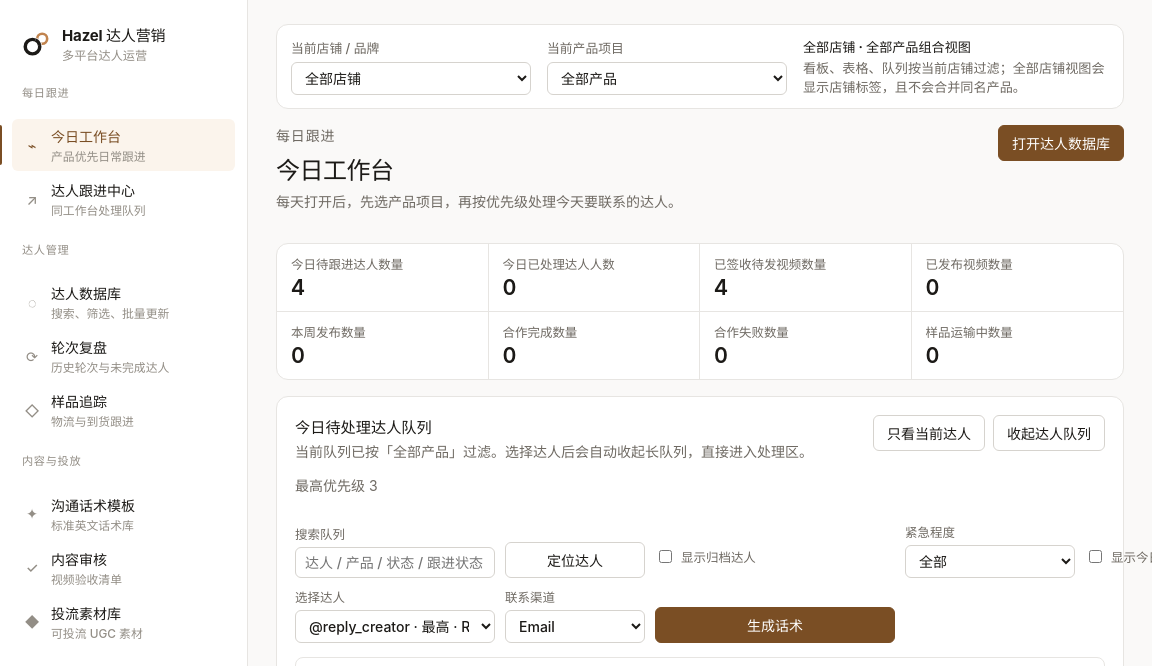
Test case: operations workbench navigation and dashboard › shows and filters Highest work with approved reasons, actions, and ordering
Click the button "↗ 达人跟进中心 同工作台处理队列". click: (124, 199)
box: left=12, top=173, right=235, bottom=225
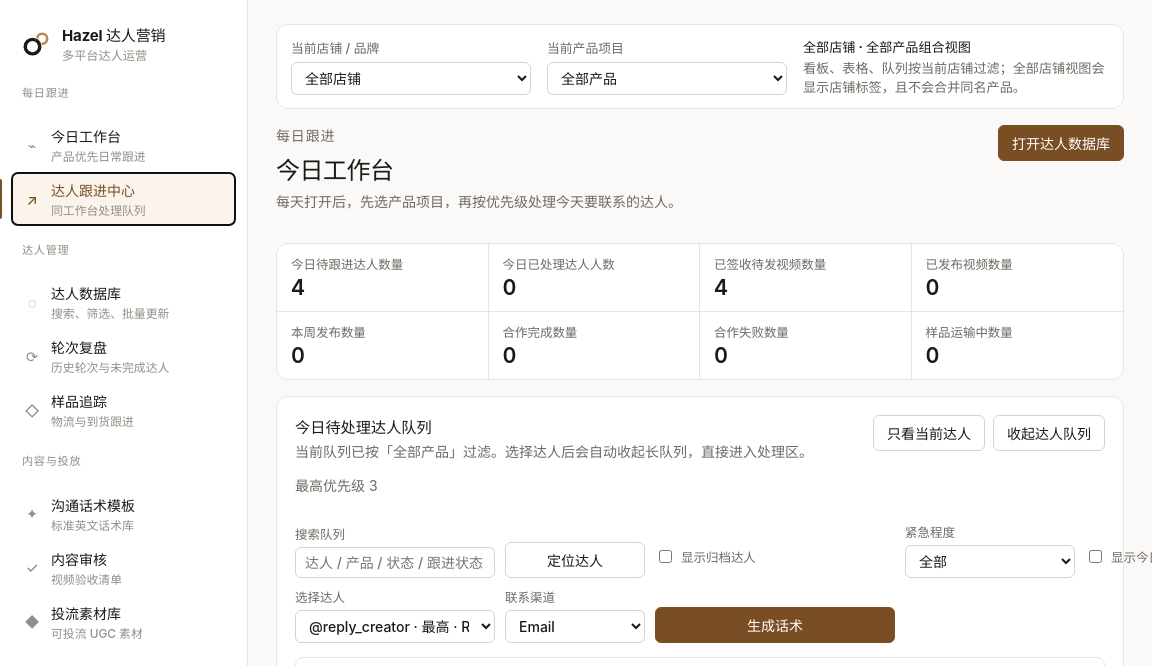
Expected: the text "最高优先级 3" is shown, left=295, top=477, right=378, bottom=494
Select "最高" in the dropdown labelled "紧急程度". click: (990, 561)
box: left=905, top=545, right=1075, bottom=578
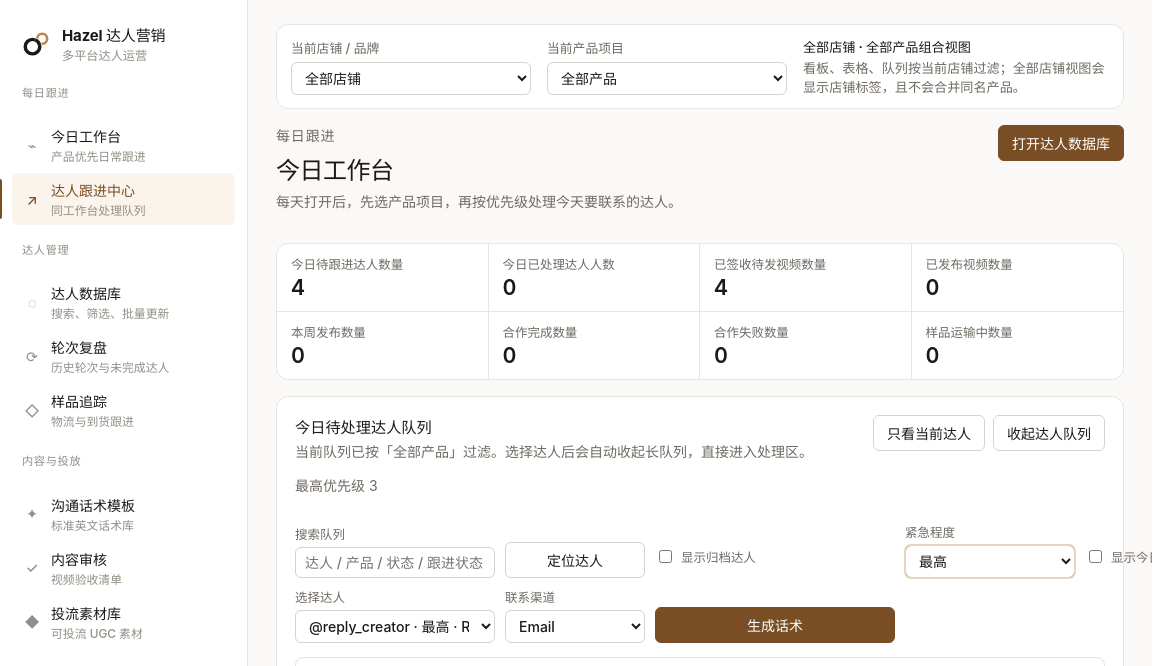
Select "@aged_two_creator · 最高 · 必须处理" in the dropdown labelled "选择达人". click: (395, 626)
box: left=295, top=610, right=495, bottom=643
(page scrolled)
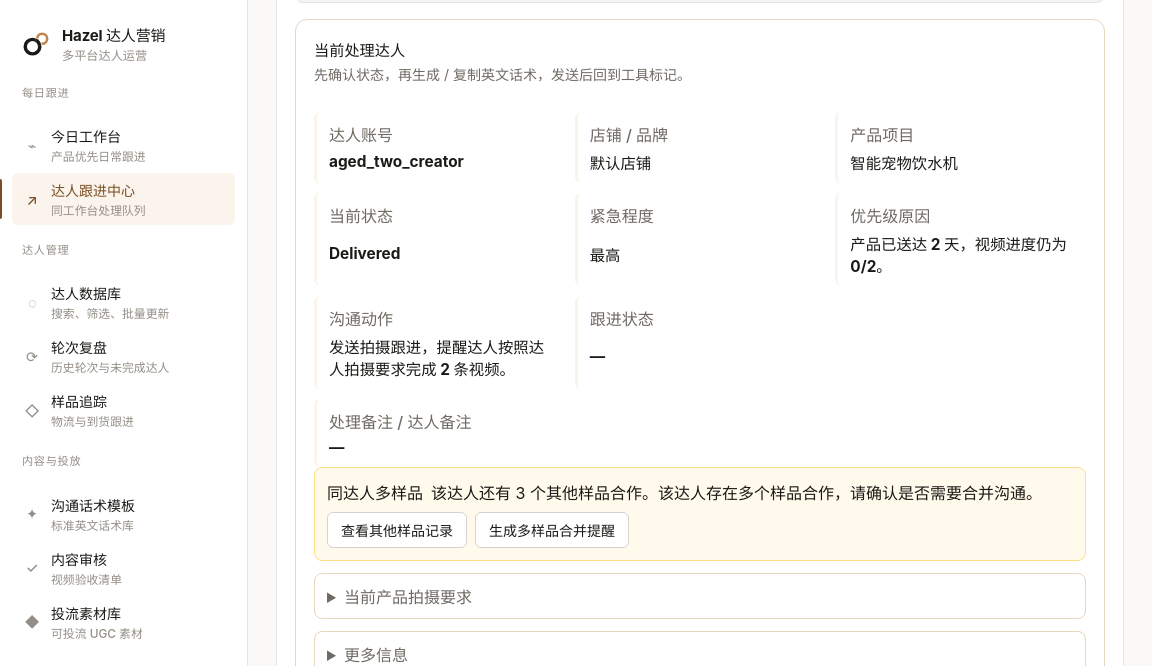
Now the text "产品已送达 2 天，视频进度仍为 0/2。" is shown, box left=850, top=232, right=1074, bottom=276
Now the text "发送拍摄跟进，提醒达人按照达人拍摄要求完成 2 条视频。" is shown, box left=329, top=335, right=553, bottom=379
